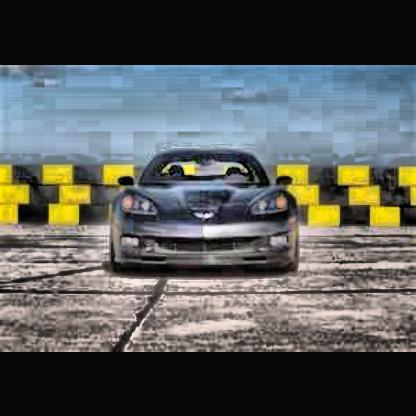Chevrolet Corvette ZR1 2012: (106, 147, 302, 282)
